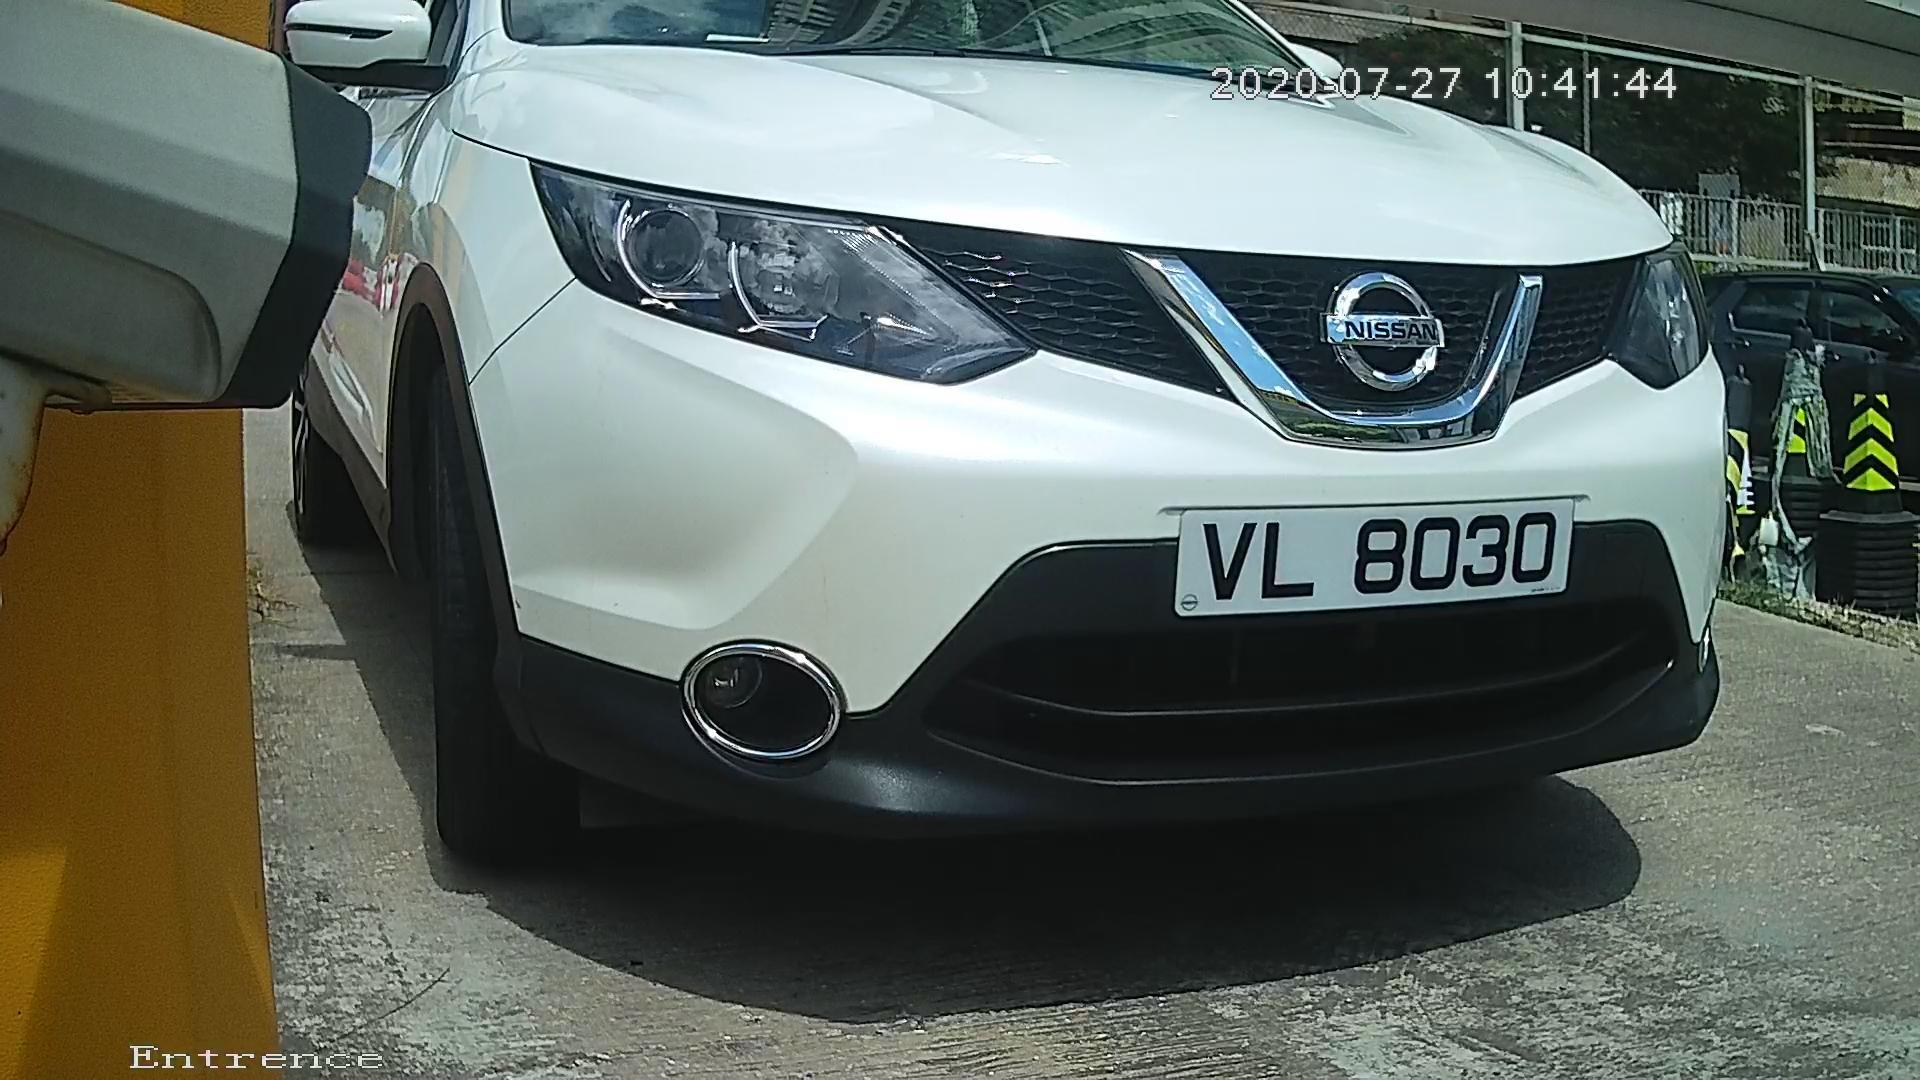Car: (189, 34, 1835, 907)
License Plate: (1141, 483, 1578, 637)
